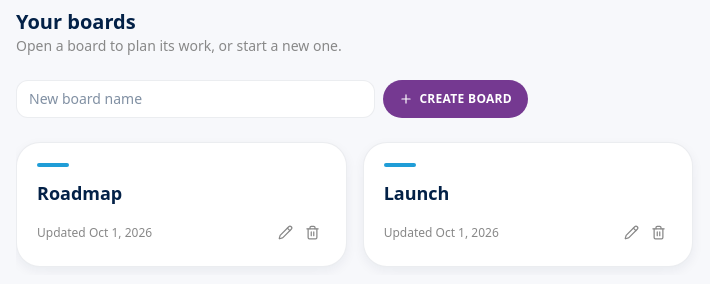
Scenario: BoardList › deletes a board after confirmation
The width and height of the screenshot is (710, 284).
Expected: the button "Roadmap" is shown, [37,179,326,207]
Click the button named "Delete Roadmap" at {"x": 312, "y": 232}, box [299,219,326,246]
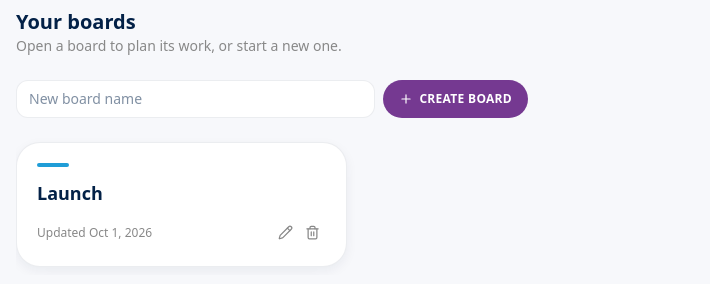
Expected: the number of list items is 1, [16,142,347,267]
Expected: the button "Roadmap" is gone
